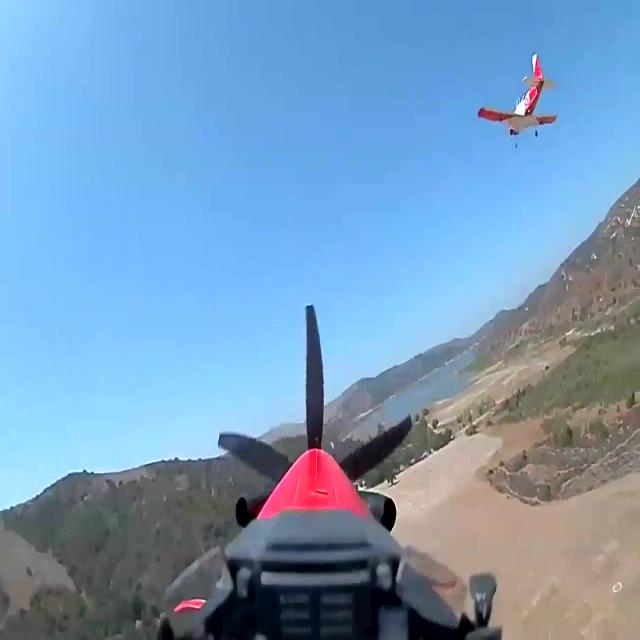iha: (509, 17, 526, 56)
